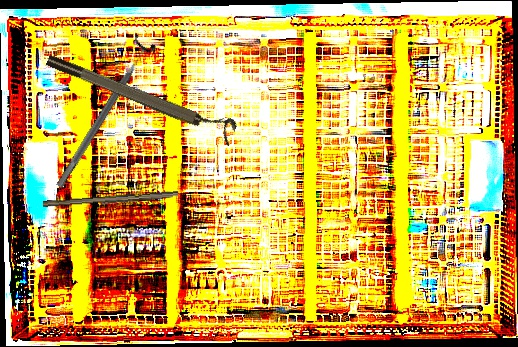Fixation Ring: (44, 43, 239, 147), (47, 33, 159, 194)
Scalpel Handle: (42, 189, 179, 211)
